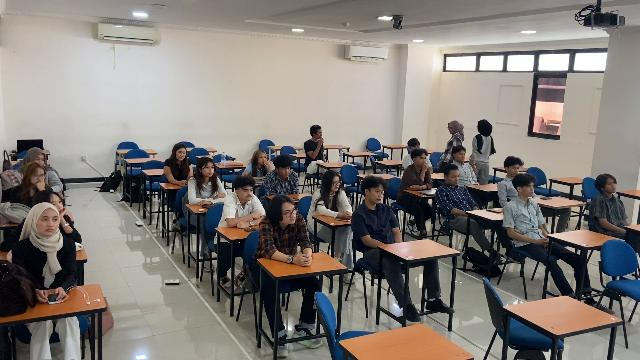fokus: (39, 213, 58, 236), (280, 204, 296, 224), (30, 168, 45, 187), (50, 194, 64, 213), (371, 187, 383, 203), (241, 186, 253, 200), (606, 177, 616, 193), (417, 154, 427, 168), (449, 171, 459, 185), (525, 182, 535, 196), (203, 164, 214, 176), (35, 155, 45, 168), (332, 176, 340, 192), (177, 147, 186, 161), (280, 165, 290, 177), (511, 164, 521, 176), (258, 153, 268, 164), (458, 152, 466, 161), (412, 143, 420, 151)
